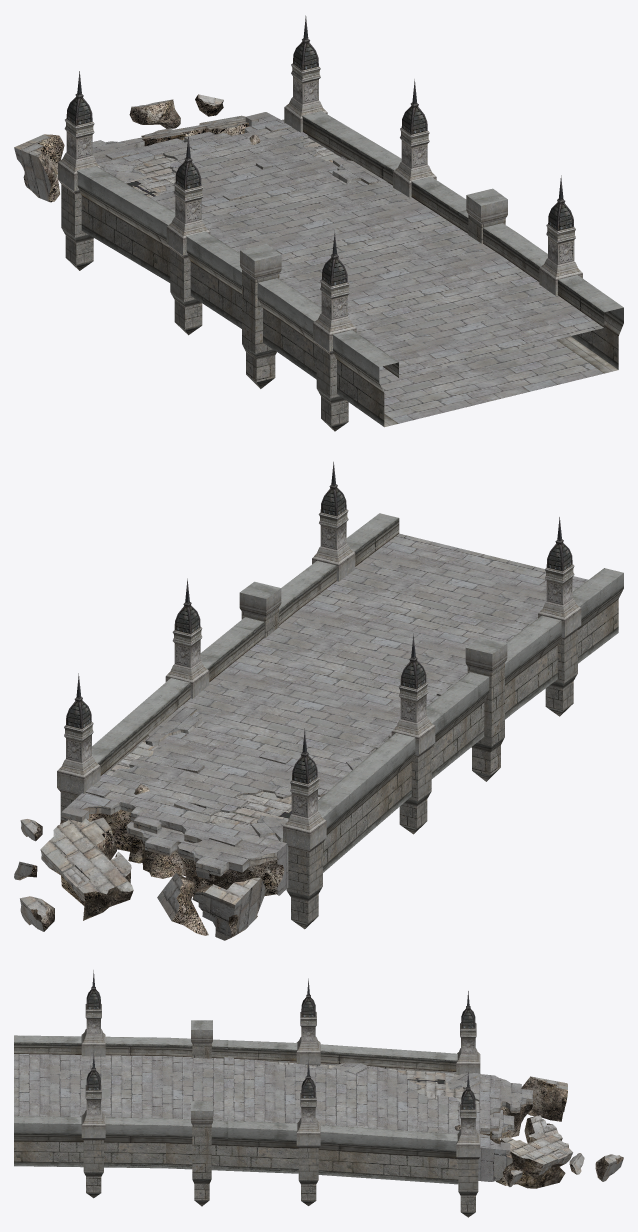
Rendered from Bridge1.FBX.
3 renders of one model, top to bottom at view 1: azimuth 30°, elevation 25°; view 2: azimuth 150°, elevation 25°; view 3: azimuth 270°, elevation 25°, orthographic. The views are drawn at different scales.
Visible parts, largest first — view 1: LV_Nigratruis_Lower_CastleBridge_SM_KBE; view 2: LV_Nigratruis_Lower_CastleBridge_SM_KBE; view 3: LV_Nigratruis_Lower_CastleBridge_SM_KBE.
Part boxes in pixels (x1,y1,x2,y2): LV_Nigratruis_Lower_CastleBridge_SM_KBE: (14, 15, 623, 431); LV_Nigratruis_Lower_CastleBridge_SM_KBE: (14, 461, 623, 940); LV_Nigratruis_Lower_CastleBridge_SM_KBE: (14, 970, 623, 1217).
Size of the model in its own units: 221 by 178 by 589.
